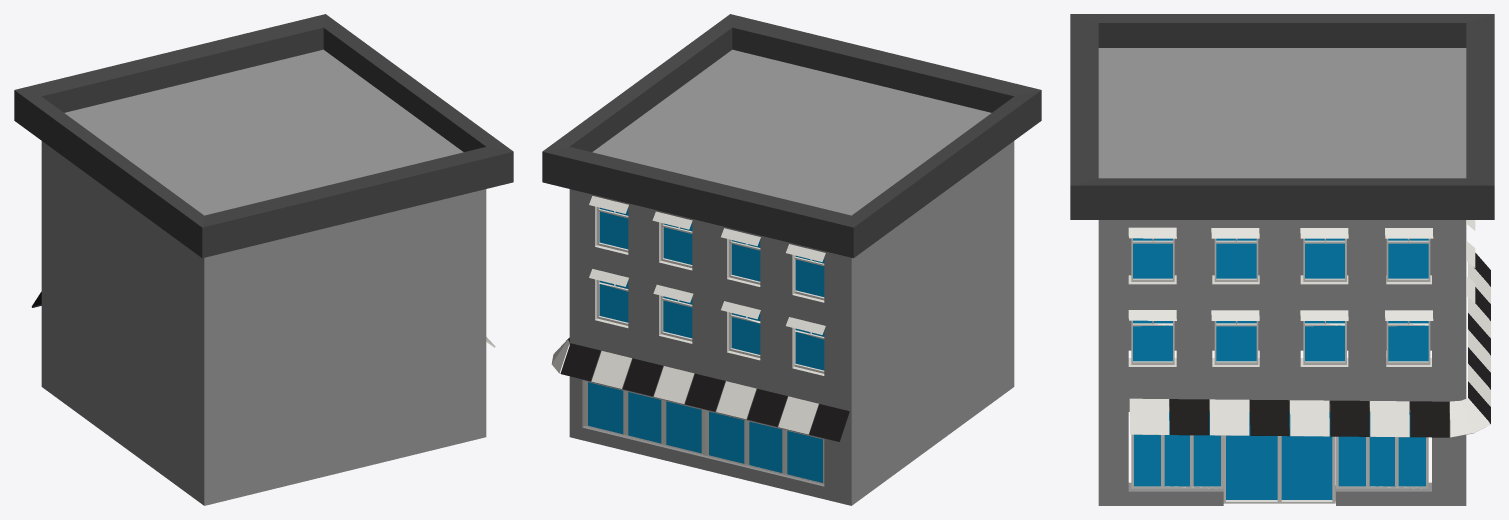
File: Shop5.fbx
The picture shows the model from 3 angles, left to right: view 1: azimuth 30°, elevation 25°; view 2: azimuth 150°, elevation 25°; view 3: azimuth 270°, elevation 25°; orthographic projection. The views are drawn at different scales.
Parts seen in each view (by area): view 1: Shop5; view 2: Shop5; view 3: Shop5.
Boxes of the visible parts, bbox=[...] form: Shop5: bbox=[14, 14, 513, 505]; Shop5: bbox=[542, 14, 1041, 505]; Shop5: bbox=[1070, 14, 1494, 505].
Bounding box in the file's own units: 14.96 × 13 × 15.22.
